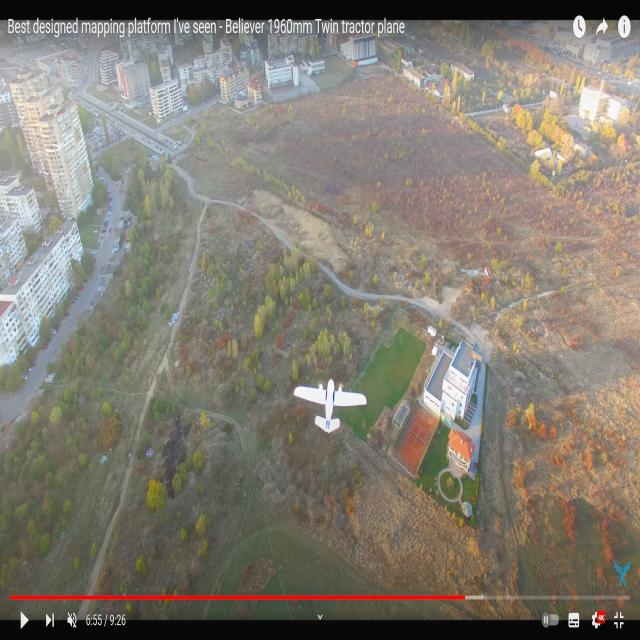iha: (317, 382, 334, 434)
